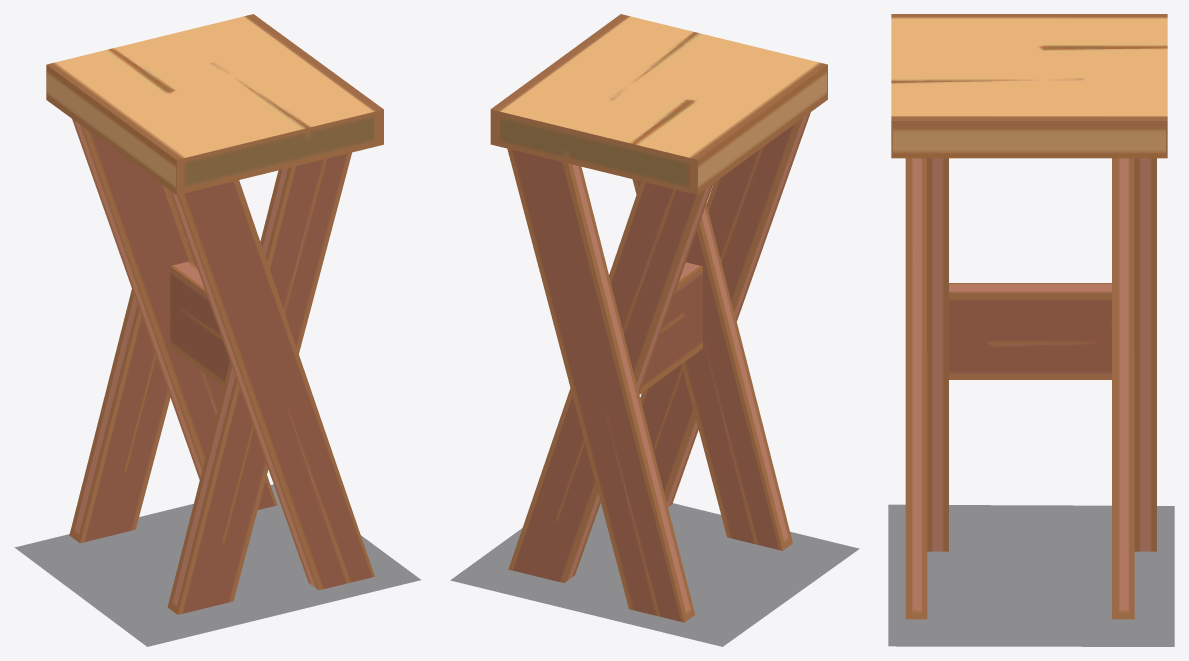
File: Picnic_Chair.glb
3 renders of one model, left to right at view 1: azimuth 30°, elevation 25°; view 2: azimuth 150°, elevation 25°; view 3: azimuth 270°, elevation 25°, orthographic. The views are drawn at different scales.
Visible parts, largest first — view 1: Picnic_Chair, Chair_Shadow; view 2: Picnic_Chair, Chair_Shadow; view 3: Picnic_Chair, Chair_Shadow.
Boxes of the visible parts, x1,y1,x2,y2 form: Picnic_Chair: [46, 14, 383, 614]; Chair_Shadow: [14, 484, 420, 646]; Picnic_Chair: [490, 14, 827, 622]; Chair_Shadow: [450, 503, 858, 646]; Picnic_Chair: [891, 14, 1167, 619]; Chair_Shadow: [888, 504, 1174, 646].
Bounding box in the file's own units: 1.18 × 1.95 × 1.
2 materials, 2 textured.
